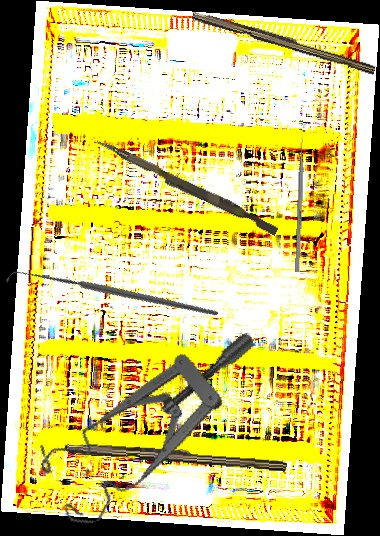Hook Surgical: (5, 190, 220, 402)
Pusher: (92, 138, 281, 236), (294, 128, 306, 273)
Scalpel Handle: (190, 8, 378, 75), (64, 439, 288, 472)
Speculum: (22, 332, 290, 532)
